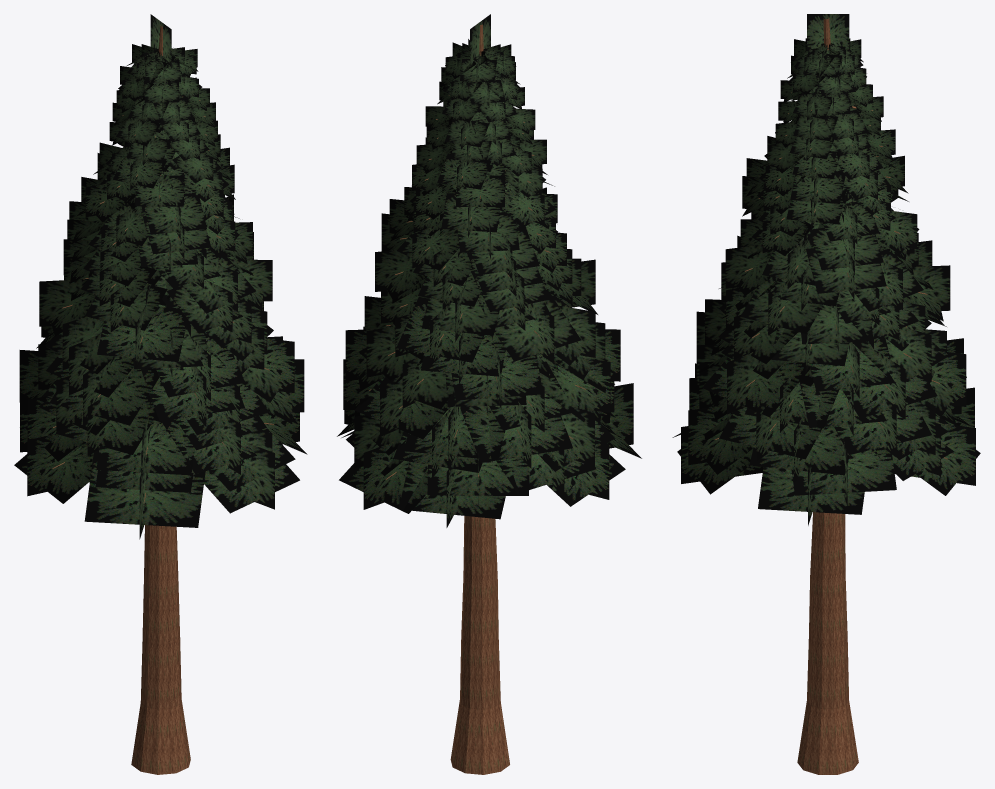
Rendered from Pine_Giant_2.gltf.
3 views of the same model, side by side, from view 1: azimuth 30°, elevation 25°; view 2: azimuth 150°, elevation 25°; view 3: azimuth 270°, elevation 25° (orthographic).
Parts seen in each view (by area): view 1: Pine_Giant_2; view 2: Pine_Giant_2; view 3: Pine_Giant_2.
Boxes of the visible parts, <box> form: Pine_Giant_2: <box>14,14,307,774</box>; Pine_Giant_2: <box>337,14,641,774</box>; Pine_Giant_2: <box>672,14,980,774</box>.
Bounding box in the file's own units: 16 × 43.48 × 16.3.
Materials: 2 (2 with a texture image).
